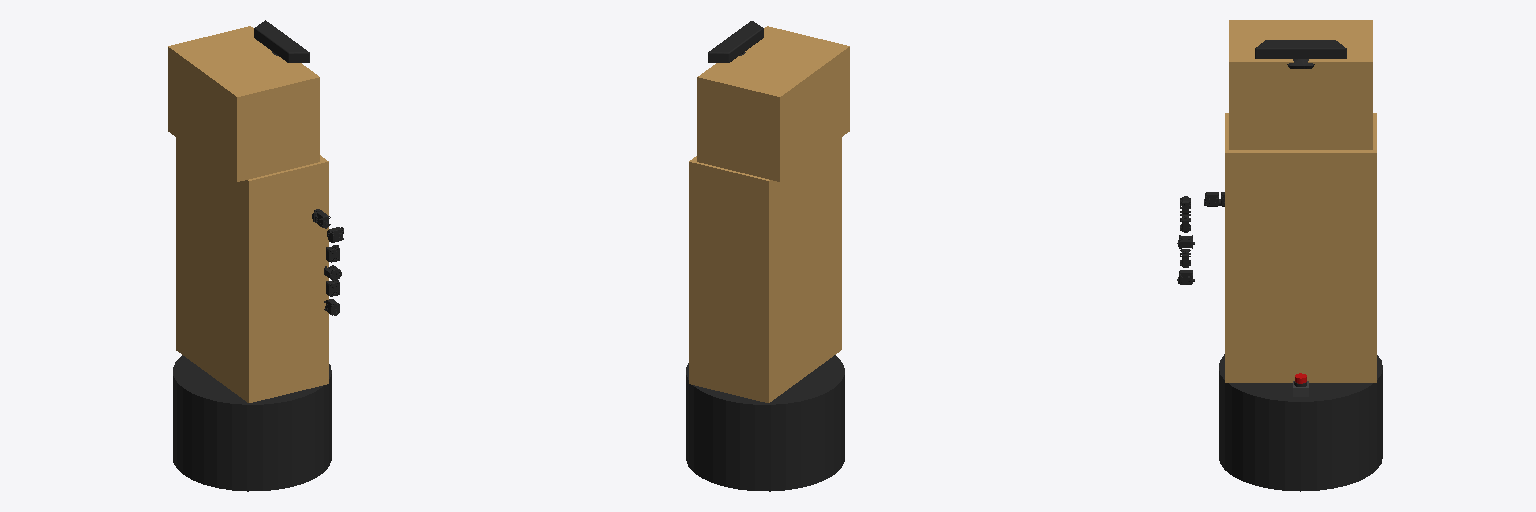
robot.urdf — akira:
<?xml version="1.0" ?>
<!-- =================================================================================== -->
<!-- |    This document was autogenerated by xacro from [local-path]/akira-ros/src/akiracontrol/akira_description/urdf/akira.xacro | -->
<!-- |    EDITING THIS FILE BY HAND IS NOT RECOMMENDED                                 | -->
<!-- =================================================================================== -->
<robot name="akira" xmlns:xacro="http://ros.org/wiki/xacro">
  <!-- Define a number of dimensions using properties -->
  <!-- face_offset_z= ${torso_size_z}/2 + ${face_size_z}/2 -->
  <!-- Include all component files -->
  <material name="Black">
    <color rgba="0.2 0.2 0.2 1.0"/>
  </material>
  <material name="TransparentBlack">
    <color rgba="0.2 0.2 0.2 0.8"/>
  </material>
  <material name="Orange">
    <color rgba="1.0 0.55 0.0 1.0"/>
  </material>
  <material name="Grey">
    <color rgba="0.7 0.7 0.7 1.0"/>
  </material>
  <material name="DarkGrey">
    <color rgba="0.3 0.3 0.3 1.0"/>
  </material>
  <material name="Red">
    <color rgba="0.8 0.0 0.0 1.0"/>
  </material>
  <material name="White">
    <color rgba="1.0 1.0 1.0 1.0"/>
  </material>
  <material name="OffWhite">
    <color rgba="0.8 0.8 0.8 1.0"/>
  </material>
  <material name="Blue">
    <color rgba="0.0 0.0 0.8 1.0"/>
  </material>
  <material name="Green">
    <color rgba="0.0 0.8 0.0 1.0"/>
  </material>
  <material name="TransparentGreen">
    <color rgba="0.0 0.8 0.0 0.5"/>
  </material>
  <material name="Danboru">
    <!--color rgba="0.796 0.663 0.090 1.0"/-->
    <color rgba="0.784 0.627 0.392 1.0"/>
  </material>
  <link name="base_footprint">
    <visual>
      <origin rpy="0 0 0" xyz="0 0 0"/>
      <geometry>
        <box size="0.05 0.05 0.001"/>
      </geometry>
      <material name="TransparentGreen"/>
    </visual>
  </link>
  <joint name="base_joint" type="fixed">
    <origin rpy="0 0 0" xyz="0 0 -0.15"/>
    <parent link="base_link"/>
    <child link="base_footprint"/>
  </joint>
  <!-- Add the base and wheels -->
  <link name="base_link">
    <visual>
      <origin rpy="0 0 0" xyz="0 0 0"/>
      <geometry>
        <!--mesh filename="package://akira_description/meshes/akira_vehicle.stl" scale="${base_mesh_scale} ${base_mesh_scale} ${base_mesh_scale}" /-->
        <cylinder length="0.3" radius="0.25"/>
      </geometry>
      <material name="Black"/>
    </visual>
    <collision>
      <origin rpy="0 0 0" xyz="0 0 0"/>
      <geometry>
        <cylinder length="0.3" radius="0.3"/>
      </geometry>
    </collision>
  </link>
  <!-- Attach the torso -->
  <joint name="base_torso_joint" type="fixed">
    <origin rpy="0 0 0" xyz="0.0 0.0 0.55"/>
    <parent link="base_link"/>
    <child link="torso_link"/>
  </joint>
  <link name="torso_link">
    <visual>
      <origin rpy="0 0 0" xyz="0 0 0"/>
      <geometry>
        <!--mesh filename="package://akira_description/meshes/akira_torso.stl" scale="${TORSO_MESH_SCALE} ${TORSO_MESH_SCALE} ${TORSO_MESH_SCALE}" /-->
        <box size="0.29 0.46 0.77"/>
      </geometry>
      <material name="Danboru"/>
    </visual>
    <collision>
      <origin rpy="0 0 0" xyz="0 0 0"/>
      <geometry>
        <!--box size="${torso_size_x} ${torso_size_y} ${torso_size_z}" /-->
        <!-- !!! 2014.12.15 modified for debug !!! -->
        <box size="0.2 0.2 0.2"/>
      </geometry>
    </collision>
  </link>
  <!-- Attach the right arm -->
  <link name="right_arm_base_link"/>
  <joint name="right_arm_base_joint" type="fixed">
    <origin rpy="0 0 0" xyz="0.1 -0.2 0.2"/>
    <parent link="torso_link"/>
    <child link="right_arm_base_link"/>
  </joint>
  <joint name="right_arm_shoulder_lift_R_joint" type="revolute">
    <origin rpy="-1.57075 1.57075 0" xyz="0 0 0"/>
    <axis xyz="0 0 1"/>
    <limit effort="1.0" lower="-0.76" upper="1.75" velocity="1.571"/>
    <parent link="right_arm_base_link"/>
    <child link="right_arm_shoulder_lift_R_link"/>
  </joint>
  <link name="right_arm_shoulder_lift_R_link">
    <inertial>
      <mass value="0.00001"/>
      <origin xyz="0 0 0"/>
      <inertia ixx="1.0" ixy="0.0" ixz="0.0" iyy="1.0" iyz="0.0" izz="1.0"/>
    </inertial>
    <visual>
      <origin rpy="0 0 0" xyz="0 0 0"/>
      <geometry>
        <mesh filename="package://akira_description/meshes/RS405CB.stl" scale="0.001 0.001 0.001"/>
        <!--box size="${RS405CB_HEIGHT} ${RS405CB_WIDTH} ${RS405CB_DEPTH}"/-->
      </geometry>
      <material name="Black"/>
    </visual>
    <collision>
      <origin rpy="0 0 0" xyz="-0.01 0.0 -0.0225"/>
      <geometry>
        <!--box size="${RS405CB_HEIGHT} ${RS405CB_WIDTH} ${RS405CB_DEPTH}"/-->
        <box size="0.001 0.001 0.001"/>
      </geometry>
    </collision>
  </link>
  <joint name="right_arm_shoulder_lift_L_joint" type="revolute">
    <origin rpy="1.57075 1.57075 0" xyz="0 -0.09 0"/>
    <axis xyz="0 0 1"/>
    <limit effort="1.0" lower="-0.76" upper="1.75" velocity="1.571"/>
    <parent link="right_arm_base_link"/>
    <child link="right_arm_shoulder_lift_L_link"/>
  </joint>
  <link name="right_arm_shoulder_lift_L_link">
    <inertial>
      <mass value="0.00001"/>
      <origin xyz="0 0 0"/>
      <inertia ixx="1.0" ixy="0.0" ixz="0.0" iyy="1.0" iyz="0.0" izz="1.0"/>
    </inertial>
    <visual>
      <origin rpy="0 0 0" xyz="0 0 0"/>
      <geometry>
        <mesh filename="package://akira_description/meshes/RS405CB.stl" scale="0.001 0.001 0.001"/>
        <!--box size="${RS405CB_HEIGHT} ${RS405CB_WIDTH} ${RS405CB_DEPTH}"/-->
      </geometry>
      <material name="Black"/>
    </visual>
    <collision>
      <origin rpy="0 0 0" xyz="-0.01 0.0 -0.0225"/>
      <geometry>
        <!--box size="${RS405CB_HEIGHT} ${RS405CB_WIDTH} ${RS405CB_DEPTH}"/-->
        <box size="0.001 0.001 0.001"/>
      </geometry>
    </collision>
  </link>
  <joint name="right_arm_shoulder_roll_joint" type="revolute">
    <origin rpy="1.57075 0 3.1415" xyz="0 0.0215 0.06"/>
    <axis xyz="0 0 1"/>
    <limit effort="1.0" lower="-1.75" upper="0" velocity="1.571"/>
    <parent link="right_arm_shoulder_lift_L_link"/>
    <child link="right_arm_shoulder_roll_link"/>
  </joint>
  <link name="right_arm_shoulder_roll_link">
    <inertial>
      <mass value="0.00001"/>
      <origin xyz="0 0 0"/>
      <inertia ixx="1.0" ixy="0.0" ixz="0.0" iyy="1.0" iyz="0.0" izz="1.0"/>
    </inertial>
    <visual>
      <origin rpy="0 0 0" xyz="0 0 0"/>
      <geometry>
        <mesh filename="package://akira_description/meshes/RS405CB.stl" scale="0.001 0.001 0.001"/>
        <!--box size="${RS405CB_HEIGHT} ${RS405CB_WIDTH} ${RS405CB_DEPTH}"/-->
      </geometry>
      <material name="Black"/>
    </visual>
    <collision>
      <origin rpy="0 0 0" xyz="-0.01 0.0 -0.0225"/>
      <geometry>
        <!--box size="${RS405CB_HEIGHT} ${RS405CB_WIDTH} ${RS405CB_DEPTH}"/-->
        <box size="0.001 0.001 0.001"/>
      </geometry>
    </collision>
  </link>
  <joint name="right_arm_shoulder_pan_joint" type="revolute">
    <origin rpy="3.1415 -1.57075 0" xyz="-0.052 0 -0.0215"/>
    <axis xyz="0 0 1"/>
    <limit effort="1.0" lower="-1.57" upper="1.57" velocity="3.14"/>
    <parent link="right_arm_shoulder_roll_link"/>
    <child link="right_arm_shoulder_pan_link"/>
  </joint>
  <link name="right_arm_shoulder_pan_link">
    <inertial>
      <mass value="0.00001"/>
      <origin xyz="0 0 0"/>
      <inertia ixx="1.0" ixy="0.0" ixz="0.0" iyy="1.0" iyz="0.0" izz="1.0"/>
    </inertial>
    <visual>
      <origin rpy="0 0 0" xyz="0 0 0"/>
      <geometry>
        <mesh filename="package://akira_description/meshes/RS405CB.stl" scale="0.001 0.001 0.001"/>
        <!--box size="${RS405CB_HEIGHT} ${RS405CB_WIDTH} ${RS405CB_DEPTH}"/-->
      </geometry>
      <material name="Black"/>
    </visual>
    <collision>
      <origin rpy="0 0 0" xyz="-0.01 0.0 -0.0225"/>
      <geometry>
        <!--box size="${RS405CB_HEIGHT} ${RS405CB_WIDTH} ${RS405CB_DEPTH}"/-->
        <box size="0.001 0.001 0.001"/>
      </geometry>
    </collision>
  </link>
  <joint name="right_arm_elbow_flex_joint" type="revolute">
    <origin rpy="-1.57075 0 0" xyz="0 0.0225 -0.0865"/>
    <axis xyz="0 0 1"/>
    <limit effort="1.0" lower="-1.57" upper="0" velocity="3.14"/>
    <parent link="right_arm_shoulder_pan_link"/>
    <child link="right_arm_elbow_flex_link"/>
  </joint>
  <link name="right_arm_elbow_flex_link">
    <inertial>
      <mass value="0.00001"/>
      <origin xyz="0 0 0"/>
      <inertia ixx="1.0" ixy="0.0" ixz="0.0" iyy="1.0" iyz="0.0" izz="1.0"/>
    </inertial>
    <visual>
      <origin rpy="0 0 0" xyz="0 0 0"/>
      <geometry>
        <mesh filename="package://akira_description/meshes/RS405CB.stl" scale="0.001 0.001 0.001"/>
        <!--box size="${RS405CB_HEIGHT} ${RS405CB_WIDTH} ${RS405CB_DEPTH}"/-->
      </geometry>
      <material name="Black"/>
    </visual>
    <collision>
      <origin rpy="0 0 0" xyz="-0.01 0.0 -0.0225"/>
      <geometry>
        <!--box size="${RS405CB_HEIGHT} ${RS405CB_WIDTH} ${RS405CB_DEPTH}"/-->
        <box size="0.001 0.001 0.001"/>
      </geometry>
    </collision>
  </link>
  <joint name="right_arm_forearm_flex_joint" type="revolute">
    <origin rpy="1.57075 0 0" xyz="0 0.032 -0.0225"/>
    <axis xyz="0 0 1"/>
    <limit effort="1.0" lower="-1.57" upper="1.57" velocity="3.14"/>
    <parent link="right_arm_elbow_flex_link"/>
    <child link="right_arm_forearm_flex_link"/>
  </joint>
  <link name="right_arm_forearm_flex_link">
    <inertial>
      <mass value="0.00001"/>
      <origin xyz="0 0 0"/>
      <inertia ixx="1.0" ixy="0.0" ixz="0.0" iyy="1.0" iyz="0.0" izz="1.0"/>
    </inertial>
    <visual>
      <origin rpy="0 0 0" xyz="0 0 0"/>
      <geometry>
        <mesh filename="package://akira_description/meshes/RS405CB.stl" scale="0.001 0.001 0.001"/>
        <!--box size="${RS405CB_HEIGHT} ${RS405CB_WIDTH} ${RS405CB_DEPTH}"/-->
      </geometry>
      <material name="Black"/>
    </visual>
    <collision>
      <origin rpy="0 0 0" xyz="-0.01 0.0 -0.0225"/>
      <geometry>
        <!--box size="${RS405CB_HEIGHT} ${RS405CB_WIDTH} ${RS405CB_DEPTH}"/-->
        <box size="0.001 0.001 0.001"/>
      </geometry>
    </collision>
  </link>
  <joint name="right_arm_wrist_flex_joint" type="revolute">
    <origin rpy="-1.57075 1.57075 0" xyz="-0.012 0.0225 -0.097"/>
    <axis xyz="0 0 1"/>
    <limit effort="1.0" lower="-1.57" upper="1.57" velocity="3.14"/>
    <parent link="right_arm_forearm_flex_link"/>
    <child link="right_arm_wrist_flex_link"/>
  </joint>
  <link name="right_arm_wrist_flex_link">
    <inertial>
      <mass value="0.00001"/>
      <origin xyz="0 0 0"/>
      <inertia ixx="1.0" ixy="0.0" ixz="0.0" iyy="1.0" iyz="0.0" izz="1.0"/>
    </inertial>
    <visual>
      <origin rpy="0 0 0" xyz="0 0 0"/>
      <geometry>
        <mesh filename="package://akira_description/meshes/RS405CB.stl" scale="0.001 0.001 0.001"/>
        <!--box size="${RS405CB_HEIGHT} ${RS405CB_WIDTH} ${RS405CB_DEPTH}"/-->
      </geometry>
      <material name="Black"/>
    </visual>
    <collision>
      <origin rpy="0 0 0" xyz="-0.01 0.0 -0.0225"/>
      <geometry>
        <!--box size="${RS405CB_HEIGHT} ${RS405CB_WIDTH} ${RS405CB_DEPTH}"/-->
        <box size="0.001 0.001 0.001"/>
      </geometry>
    </collision>
  </link>
  <!-- Attach the right gripper -->
  <joint name="right_gripper_joint" type="fixed">
    <origin rpy="1.57075 0 0" xyz="0.13 0 0"/>
    <axis xyz="0 0 1"/>
    <parent link="right_arm_wrist_flex_link"/>
    <child link="right_gripper_link"/>
  </joint>
  <link name="right_gripper_link">
    <visual>
      <origin rpy="0 0 0" xyz="0 0 0"/>
      <geometry>
        <box size="0.001 0.0005 0.0005"/>
      </geometry>
    </visual>
    <collision>
      <origin rpy="0 0 0" xyz="-0.05 0 0"/>
      <geometry>
        <box size="0.001 0.001 0.001"/>
      </geometry>
    </collision>
  </link>
  <!-- Attach the face -->
  <joint name="torso_face_joint" type="fixed">
    <origin rpy="0 0 0" xyz="-0.03 0.0 0.532"/>
    <parent link="torso_link"/>
    <child link="face_link"/>
  </joint>
  <link name="face_link">
    <visual>
      <origin rpy="0 0 0" xyz="0 0 0"/>
      <geometry>
        <!--mesh filename="package://akira_description/meshes/akira_face.stl" scale="${FACE_MESH_SCALE} ${FACE_MESH_SCALE} ${FACE_MESH_SCALE}" /-->
        <box size="0.3 0.438 0.294"/>
      </geometry>
      <material name="Danboru"/>
    </visual>
    <collision>
      <origin rpy="0 0 0" xyz="0 0 0"/>
      <geometry>
        <box size="0.3 0.438 0.294"/>
      </geometry>
    </collision>
  </link>
  <!-- Attach the camera -->
  <joint name="torso_camera_joint" type="fixed">
    <origin rpy="0 0 0" xyz="0.1 0.0 0.695"/>
    <parent link="torso_link"/>
    <child link="camera_link"/>
  </joint>
  <link name="camera_link">
    <visual>
      <origin rpy="0 0 1.57075" xyz="0 0 0"/>
      <geometry>
        <mesh filename="package://akira_description/meshes/kinect.dae" scale="1.0 1.0 1.0"/>
      </geometry>
      <material name="Black"/>
    </visual>
    <collision>
      <origin rpy="0 0 0" xyz="0 0 0"/>
      <geometry>
        <box size="0.07271 0.27794 0.07"/>
      </geometry>
    </collision>
  </link>
  <joint name="camera_depth_joint" type="fixed">
    <origin rpy="0 0 0" xyz="0 0.0125 0.015"/>
    <parent link="camera_link"/>
    <child link="camera_depth_frame"/>
  </joint>
  <link name="camera_depth_frame">
    <inertial>
      <mass value="0.000001"/>
      <origin xyz="0 0 0"/>
      <inertia ixx="0.0001" ixy="0.0" ixz="0.0" iyy="0.0001" iyz="0.0" izz="0.0001"/>
    </inertial>
  </link>
  <joint name="camera_depth_optical_joint" type="fixed">
    <origin rpy="-1.57075 0 -1.57075" xyz="0 0 0"/>
    <parent link="camera_depth_frame"/>
    <child link="camera_depth_optical_frame"/>
  </joint>
  <link name="camera_depth_optical_frame">
    <inertial>
      <mass value="0.000001"/>
      <origin xyz="0 0 0"/>
      <inertia ixx="0.0001" ixy="0.0" ixz="0.0" iyy="0.0001" iyz="0.0" izz="0.0001"/>
    </inertial>
  </link>
  <joint name="camera_rgb_joint" type="fixed">
    <origin rpy="0 0 0" xyz="0 -0.0125 0.015"/>
    <parent link="camera_link"/>
    <child link="camera_rgb_frame"/>
  </joint>
  <link name="camera_rgb_frame">
    <inertial>
      <mass value="0.000001"/>
      <origin xyz="0 0 0"/>
      <inertia ixx="0.0001" ixy="0.0" ixz="0.0" iyy="0.0001" iyz="0.0" izz="0.0001"/>
    </inertial>
  </link>
  <joint name="camera_rgb_optical_joint" type="fixed">
    <origin rpy="-1.57075 0 -1.57075" xyz="0 0 0"/>
    <parent link="camera_rgb_frame"/>
    <child link="camera_rgb_optical_frame"/>
  </joint>
  <link name="camera_rgb_optical_frame">
    <inertial>
      <mass value="0.000001"/>
      <origin xyz="0 0 0"/>
      <inertia ixx="0.0001" ixy="0.0" ixz="0.0" iyy="0.0001" iyz="0.0" izz="0.0001"/>
    </inertial>
  </link>
  <!-- Attach the laser -->
  <joint name="base_laser_bottom_joint" type="fixed">
    <origin rpy="0 0 0 " xyz="0.19 0.0 0.16"/>
    <parent link="base_link"/>
    <child link="base_laser_bottom"/>
  </joint>
  <link name="base_laser_bottom">
    <visual>
      <origin rpy="0 0 0" xyz="0 0 0"/>
      <geometry>
        <box size="0.05 0.05 0.041"/>
      </geometry>
      <material name="DarkGrey"/>
    </visual>
    <collision>
      <origin rpy="0 0 0" xyz="0 0 0"/>
      <geometry>
        <box size="0.05 0.05 0.041"/>
      </geometry>
    </collision>
    <inertial>
      <mass value="0.1"/>
      <inertia ixx="0.001" ixy="0.0" ixz="0.0" iyy="0.001" iyz="0.0" izz="0.001"/>
    </inertial>
  </link>
  <link name="base_laser_middle">
    <visual>
      <origin rpy="0 0 0" xyz="0 0 0"/>
      <geometry>
        <cylinder length="0.0115" radius=".02"/>
      </geometry>
      <material name="dark_grey">
        <color rgba="0.2 0.2 0.2 1.0"/>
      </material>
    </visual>
    <collision>
      <origin rpy="0 0 0" xyz="0 0 0"/>
      <geometry>
        <cylinder length="0.0115" radius=".02"/>
      </geometry>
    </collision>
    <inertial>
      <mass value="0.1"/>
      <inertia ixx="0.001" ixy="0.0" ixz="0.0" iyy="0.001" iyz="0.0" izz="0.001"/>
    </inertial>
  </link>
  <joint name="base_laser_middle_joint" type="fixed">
    <parent link="base_laser_bottom"/>
    <child link="base_laser_middle"/>
    <origin rpy="0 0 0" xyz="0 0 0.02625"/>
  </joint>
  <link name="base_laser">
    <visual>
      <origin rpy="0 0 0" xyz="0 0 0"/>
      <geometry>
        <cylinder length="0.0175" radius=".0185"/>
      </geometry>
      <material name="red">
        <color rgba="0.8 0.1 0.1 1.0"/>
      </material>
    </visual>
    <collision>
      <origin rpy="0 0 0" xyz="0 0 0"/>
      <geometry>
        <cylinder length="0.0175" radius=".0185"/>
      </geometry>
    </collision>
    <inertial>
      <mass value="0.1"/>
      <inertia ixx="0.001" ixy="0.0" ixz="0.0" iyy="0.001" iyz="0.0" izz="0.001"/>
    </inertial>
  </link>
  <joint name="base_laser_joint" type="fixed">
    <parent link="base_laser_middle"/>
    <child link="base_laser"/>
    <origin rpy="0 0 0" xyz="0 0 0.0145"/>
  </joint>
</robot>

--- Facts derived from the render (not from the file) ---
The picture shows the robot from 3 angles, left to right: view 1: azimuth 30°, elevation 25°; view 2: azimuth 150°, elevation 25°; view 3: azimuth 270°, elevation 25°; orthographic projection.
Robot: akira — 21 links, 20 joints (7 revolute, 13 fixed); root link base_link; default pose: every joint at zero.
Visible links, largest first — view 1: torso_link, face_link, base_link, camera_link; view 2: torso_link, face_link, base_link, camera_link; view 3: torso_link, face_link, base_link, camera_link.
Link boxes in pixels (x1,y1,x2,y2): torso_link: [176, 138, 328, 402]; face_link: [168, 26, 319, 181]; base_link: [173, 355, 331, 491]; camera_link: [254, 20, 309, 62]; torso_link: [689, 137, 841, 402]; face_link: [697, 26, 849, 181]; base_link: [686, 355, 844, 491]; camera_link: [708, 21, 763, 62]; torso_link: [1225, 113, 1376, 382]; face_link: [1229, 20, 1372, 149]; base_link: [1219, 354, 1382, 491]; camera_link: [1255, 40, 1346, 68].
Size in the robot's own frame: 0.5 by 0.6268 by 1.43 metres.
8 mesh visuals loaded from 2 distinct referenced files (1 binary STL, 1 Collada DAE).
